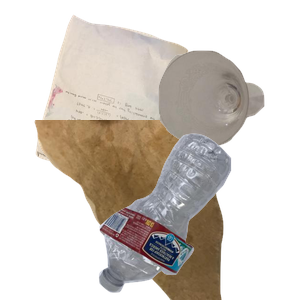glass: (156, 48, 300, 189)
paper: (33, 12, 214, 192)
plastic: (96, 131, 300, 300)
trash: (32, 120, 248, 300)
